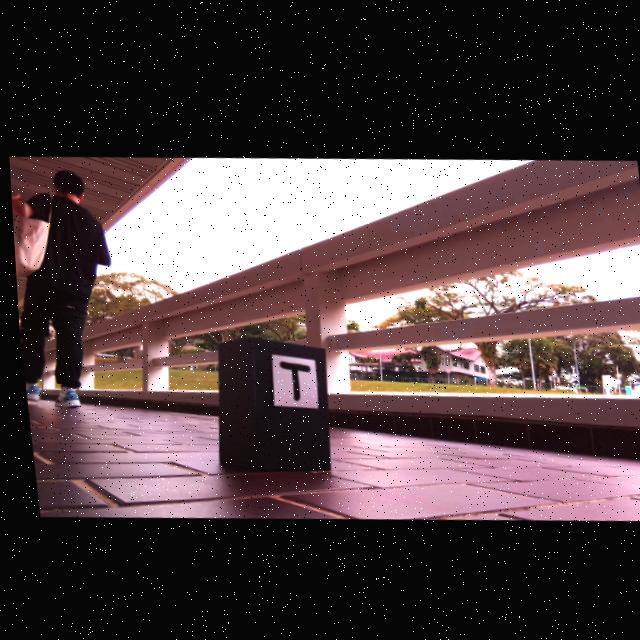T: (276, 358, 306, 397)
